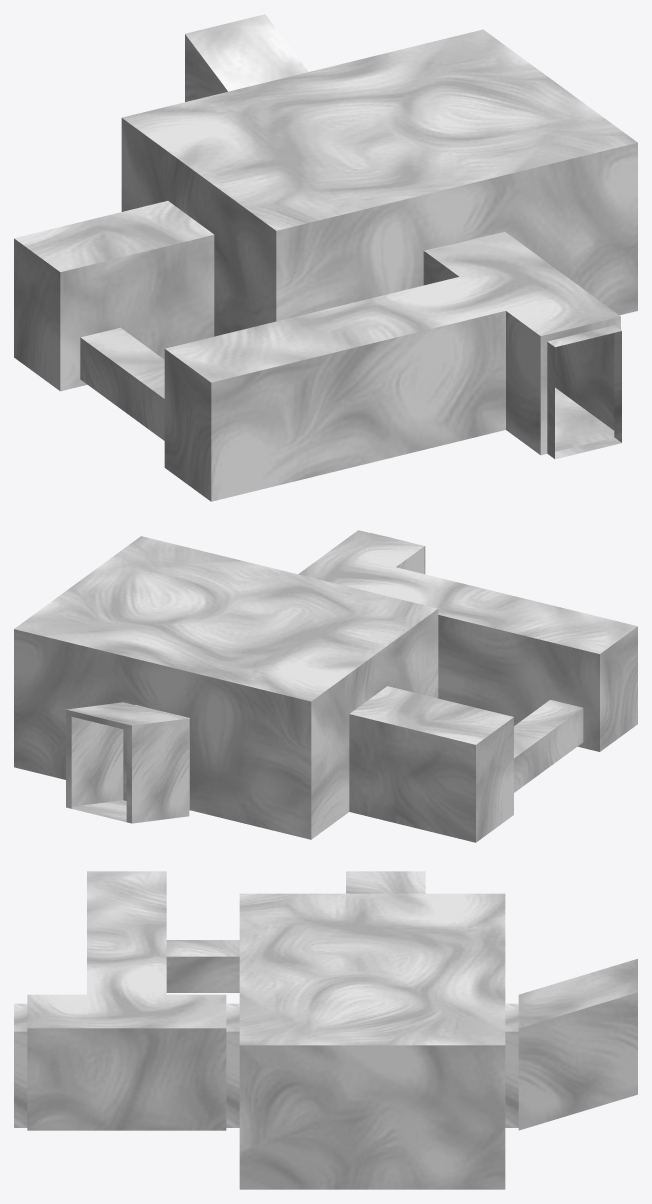
The model's file is Stage4.obj.
The picture shows the model from 3 angles, top to bottom: view 1: azimuth 30°, elevation 25°; view 2: azimuth 150°, elevation 25°; view 3: azimuth 270°, elevation 25°; orthographic projection. The views are drawn at different scales.
Parts seen in each view (by area): view 1: Stage4; view 2: Stage4; view 3: Stage4.
Part boxes in pixels (x1,y1,x2,y2): Stage4: (14,14,637,501); Stage4: (14,530,637,842); Stage4: (14,871,637,1189).
Bounding box in the file's own units: 19.25 × 6 × 23.5.
Materials: 1 (1 with a texture image).
